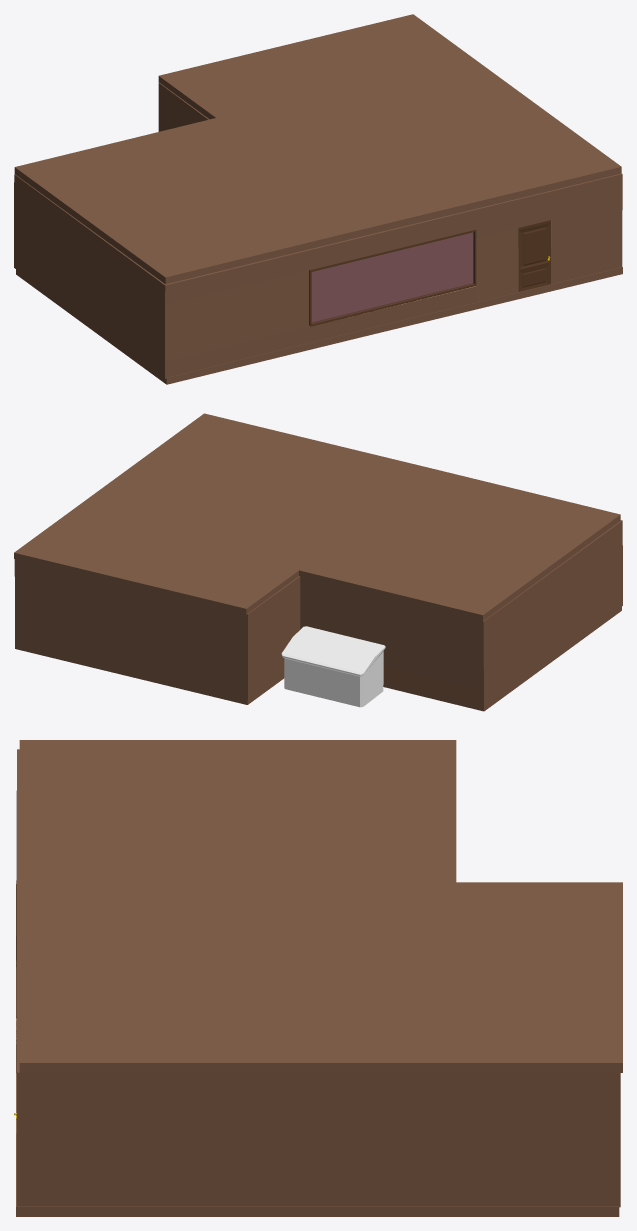
Rendered from Shop.glb.
3 renders of one model, top to bottom at view 1: azimuth 30°, elevation 25°; view 2: azimuth 150°, elevation 25°; view 3: azimuth 270°, elevation 25°, orthographic. The views are drawn at different scales.
Parts seen in each view (by area): view 1: Celing, Wall, Floor, Window, Door.001; view 2: Celing, Wall, Dumpster, Floor; view 3: Celing, Wall, Floor.
Part boxes in pixels (left/top/right/bottom): Celing: left=14, top=14, right=621, bottom=284; Wall: left=14, top=82, right=622, bottom=378; Floor: left=16, top=232, right=622, bottom=384; Window: left=309, top=229, right=476, bottom=326; Door.001: left=518, top=220, right=550, bottom=291; Celing: left=14, top=413, right=620, bottom=621; Wall: left=14, top=520, right=622, bottom=706; Dumpster: left=281, top=626, right=385, bottom=707; Floor: left=15, top=607, right=621, bottom=711; Celing: left=19, top=740, right=622, bottom=1072; Wall: left=16, top=749, right=620, bottom=1207; Floor: left=16, top=884, right=619, bottom=1216.
Bounding box in the file's own units: 16.97 × 3.79 × 13.51.
